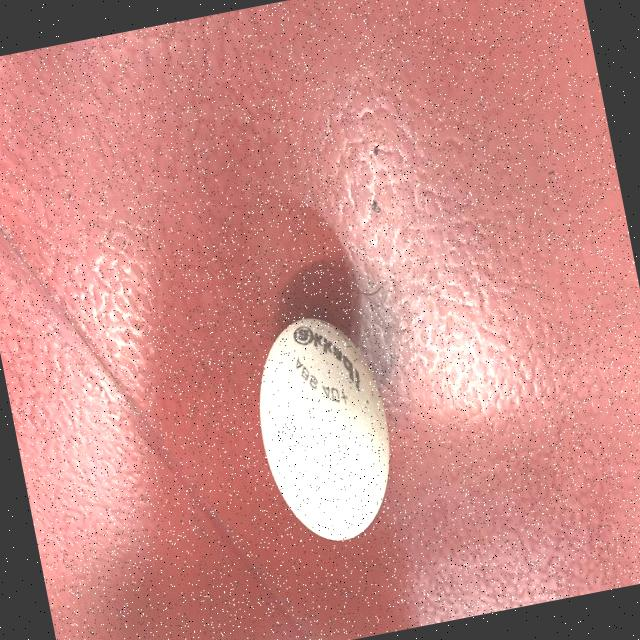ping-pong-ball: (239, 298, 411, 560)
